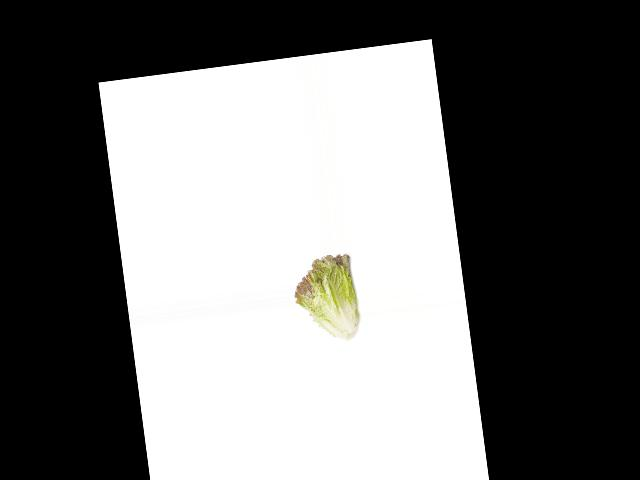lettuce: (290, 250, 360, 344)
